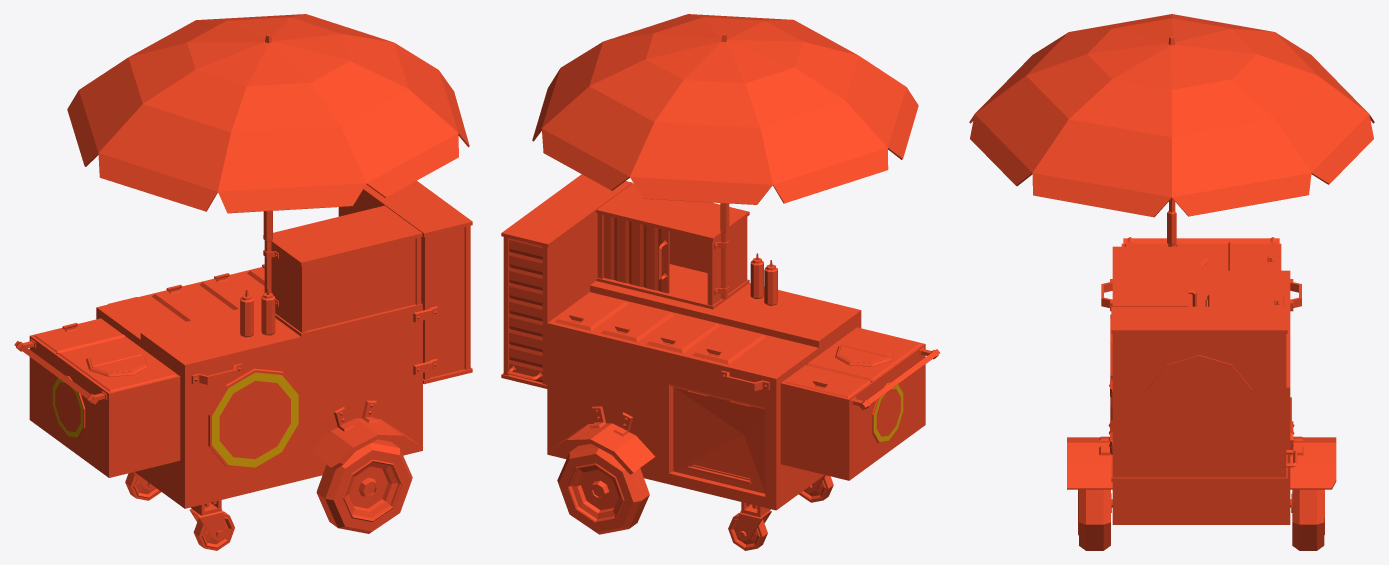
File: SM_Stand_Hotdog_City.fbx
3 views of the same model, side by side, from view 1: azimuth 30°, elevation 25°; view 2: azimuth 150°, elevation 25°; view 3: azimuth 270°, elevation 25° (orthographic). The views are drawn at different scales.
Visible parts, largest first — view 1: SM_Stand_Hotdog_City_Base, SM_Stand_Hotdog_City_Wheel_B, SM_Stand_Hotdog_City_Lid_A, SM_Stand_Hotdog_City_Lid_B, SM_Stand_Hotdog_City_Lid_C, SM_Stand_Hotdog_City_Wheel_LF; view 2: SM_Stand_Hotdog_City_Base, SM_Stand_Hotdog_City_Wheel_B, SM_Stand_Hotdog_City_Lid_A, SM_Stand_Hotdog_City_Lid_B, SM_Stand_Hotdog_City_Lid_D, SM_Stand_Hotdog_City_Lid_C, SM_Stand_Hotdog_City_Lid_E, SM_Stand_Hotdog_City_Wheel_LR; view 3: SM_Stand_Hotdog_City_Base, SM_Stand_Hotdog_City_Wheel_B, SM_Stand_Hotdog_City_Lid_A, SM_Stand_Hotdog_City_Lid_B.
Boxes of the visible parts, x1,y1,x2,y2 form: SM_Stand_Hotdog_City_Base: (14, 14, 472, 541); SM_Stand_Hotdog_City_Wheel_B: (316, 439, 412, 533); SM_Stand_Hotdog_City_Lid_A: (34, 319, 125, 353); SM_Stand_Hotdog_City_Lid_B: (152, 284, 224, 321); SM_Stand_Hotdog_City_Lid_C: (200, 273, 263, 309); SM_Stand_Hotdog_City_Wheel_LF: (193, 511, 234, 550); SM_Stand_Hotdog_City_Base: (501, 14, 939, 541); SM_Stand_Hotdog_City_Wheel_B: (557, 443, 649, 534); SM_Stand_Hotdog_City_Lid_A: (785, 363, 872, 397); SM_Stand_Hotdog_City_Lid_B: (692, 327, 765, 364); SM_Stand_Hotdog_City_Lid_D: (600, 304, 673, 342); SM_Stand_Hotdog_City_Lid_C: (646, 316, 719, 353); SM_Stand_Hotdog_City_Lid_E: (555, 293, 627, 330); SM_Stand_Hotdog_City_Wheel_LR: (728, 513, 767, 550); SM_Stand_Hotdog_City_Base: (969, 14, 1374, 524); SM_Stand_Hotdog_City_Wheel_B: (1078, 489, 1324, 550); SM_Stand_Hotdog_City_Lid_A: (1228, 242, 1278, 270); SM_Stand_Hotdog_City_Lid_B: (1205, 294, 1284, 306).
Bounding box in the file's own units: 2.36 × 2.86 × 2.18.
